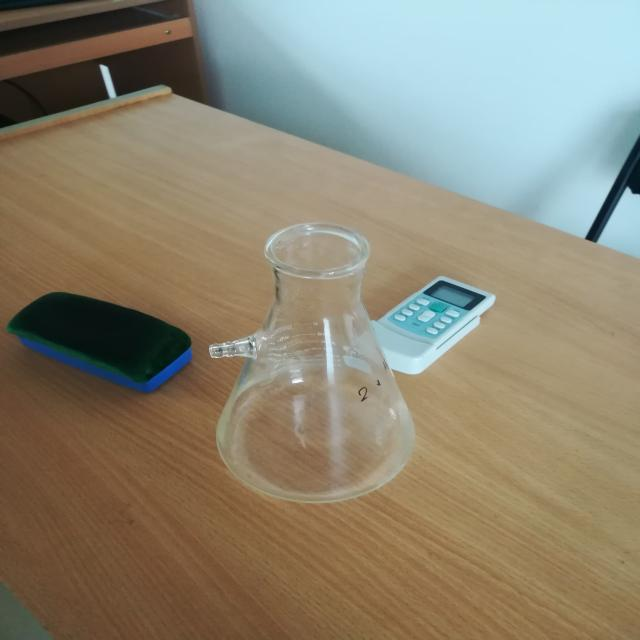Conical_Flask: (170, 198, 485, 530)
